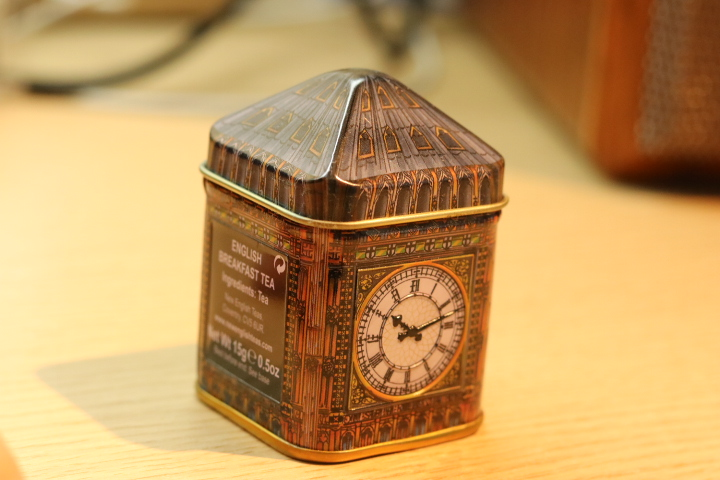Big Ben: (185, 57, 520, 473)
